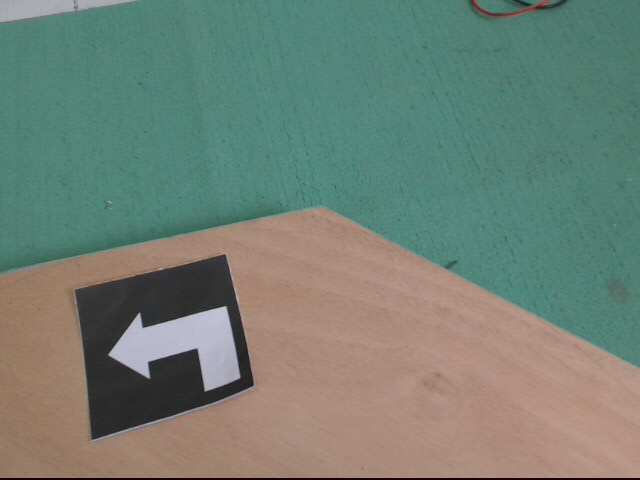left: (74, 253, 258, 444)
